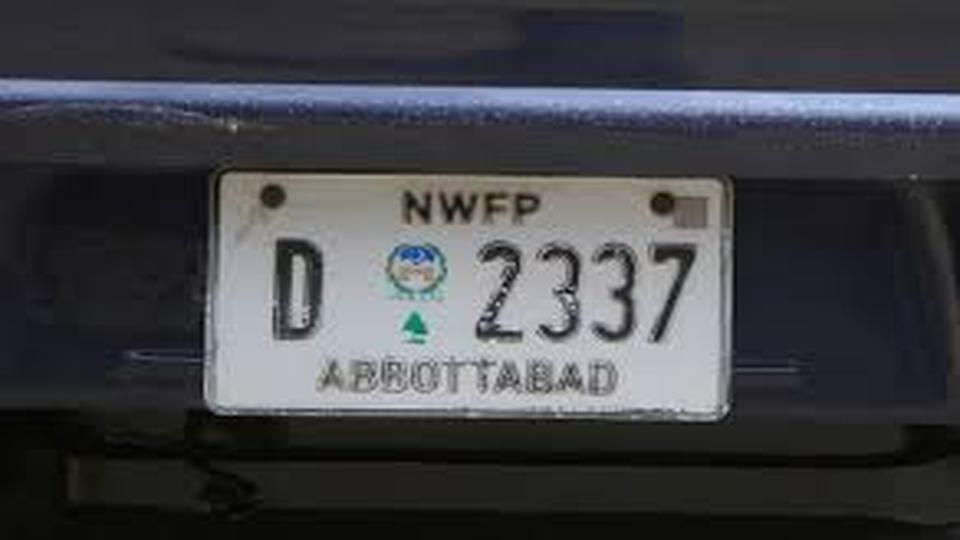NumberPlate: (213, 168, 749, 412)
